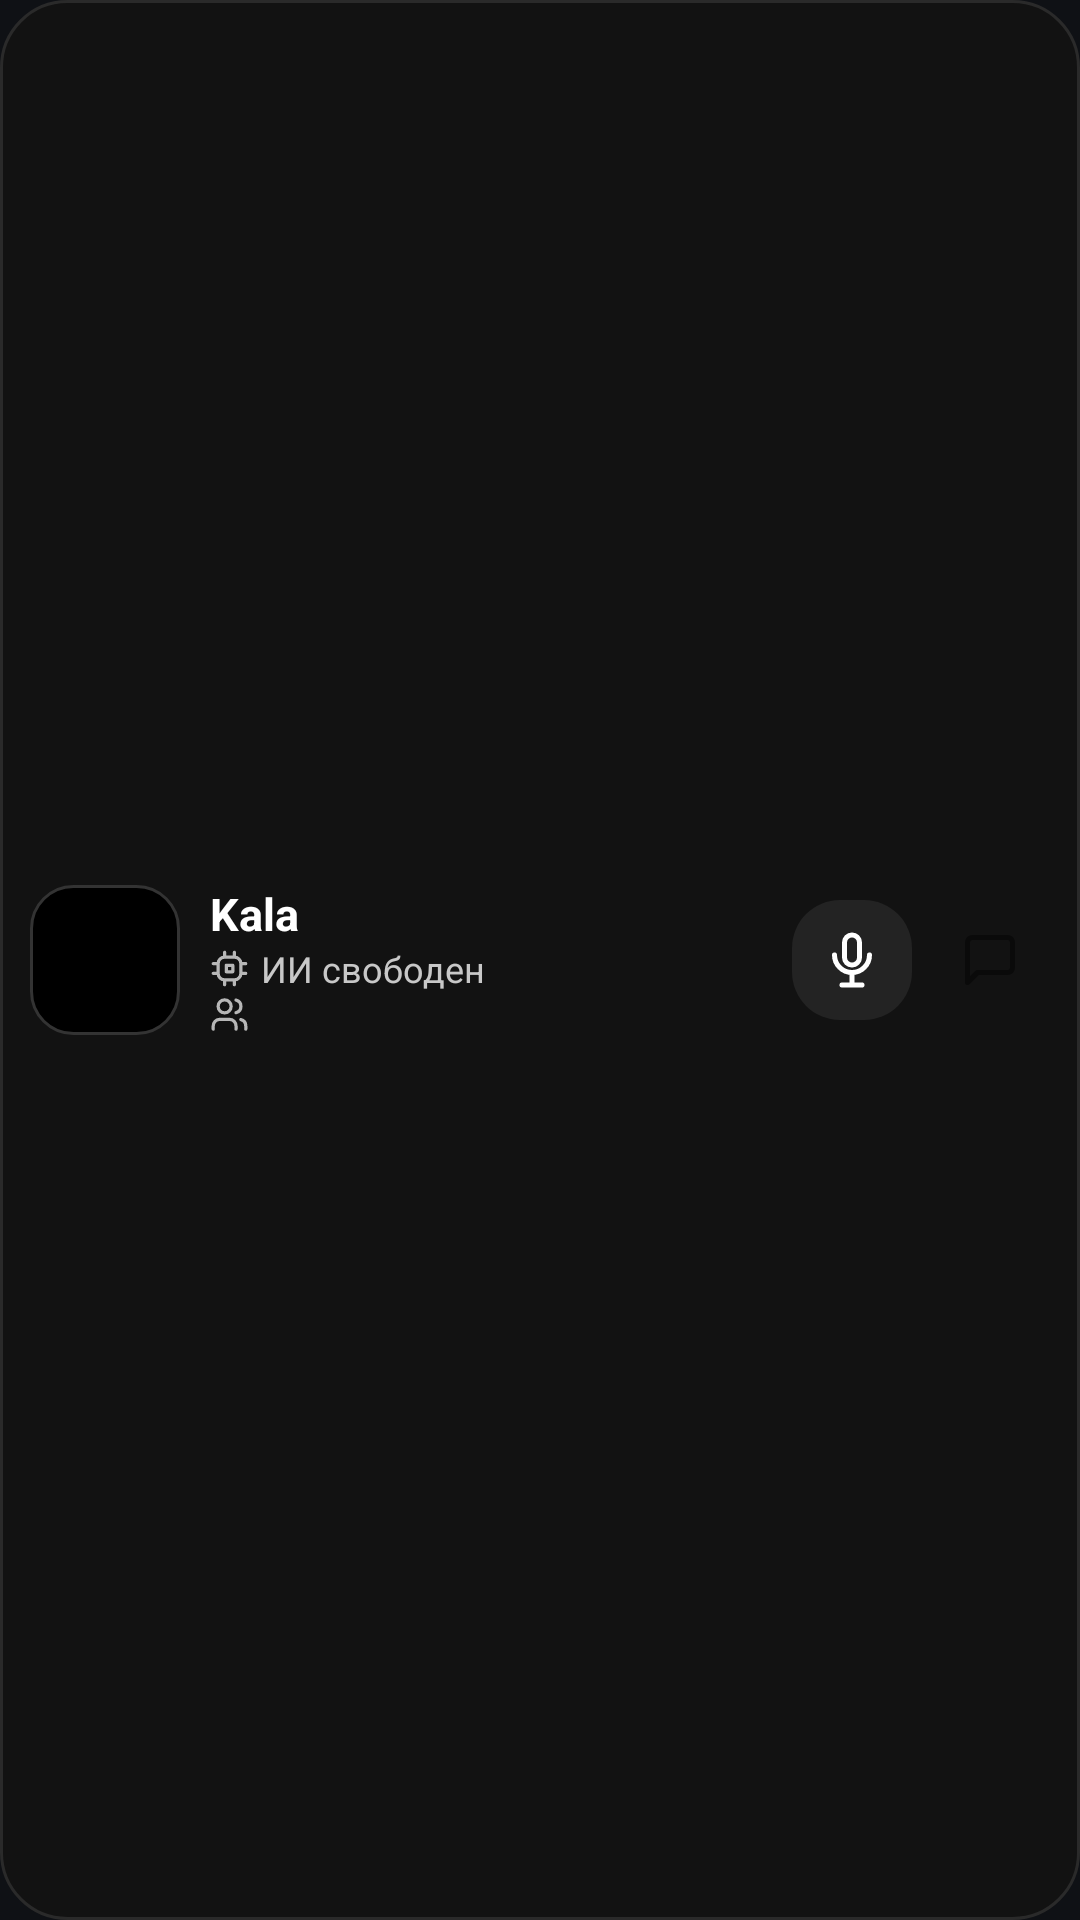

Icon bounding boxes for this 1080x1920 phone screenshot, format box=[x1, y1, x2, y2]:
agents: box=[211, 998, 248, 1031]
mic: box=[792, 900, 912, 1020]
